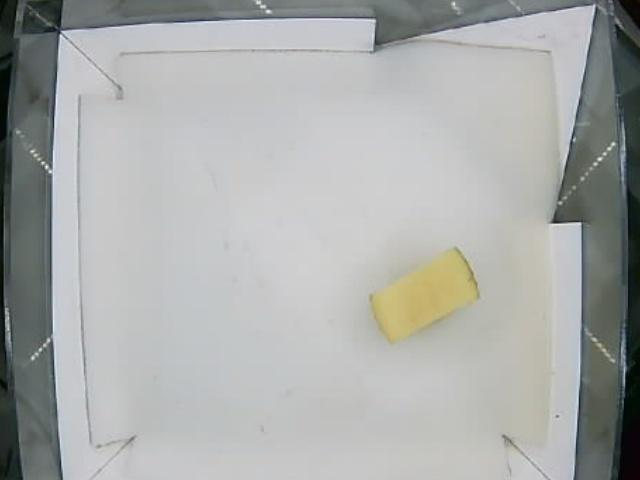Potato: (369, 247, 478, 338)
